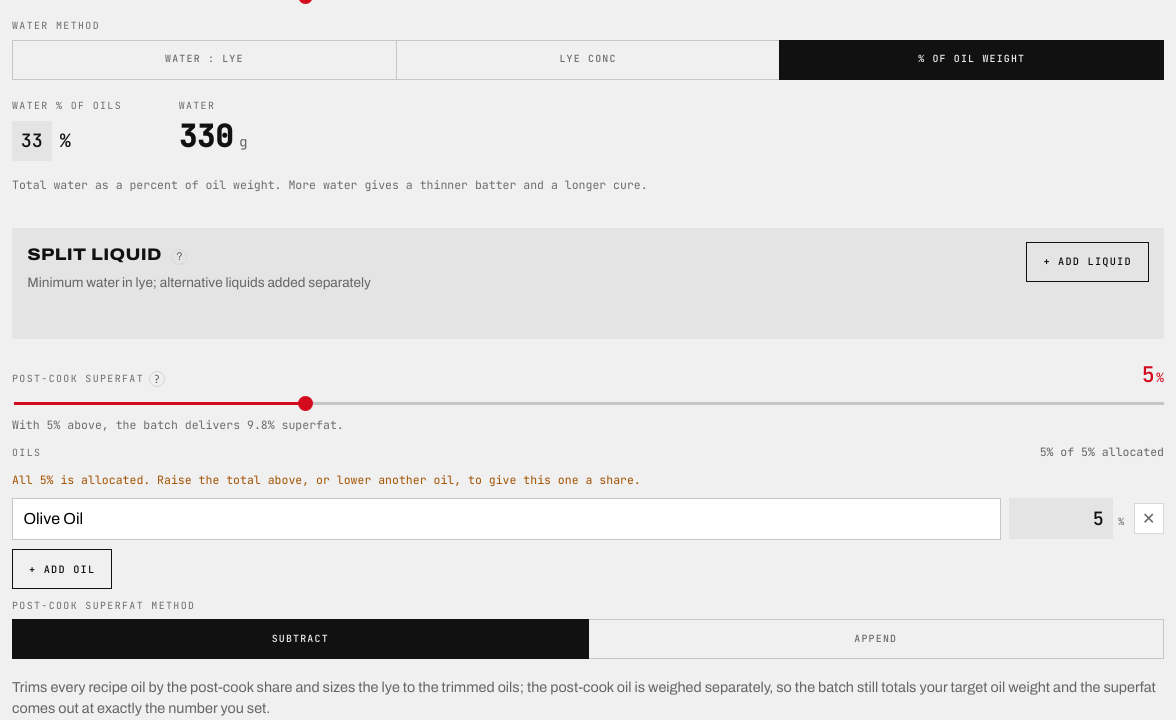
each method shows a plain-language explanation that changes with the selection
(page scrolled)
Expected: the text "Trims every recipe oil" is shown, x1=12 y1=679 x2=1156 y2=716
Click the radio button with aria-label "Append (add oil)".
click(876, 639)  # box x1=588 y1=619 x2=1164 y2=659
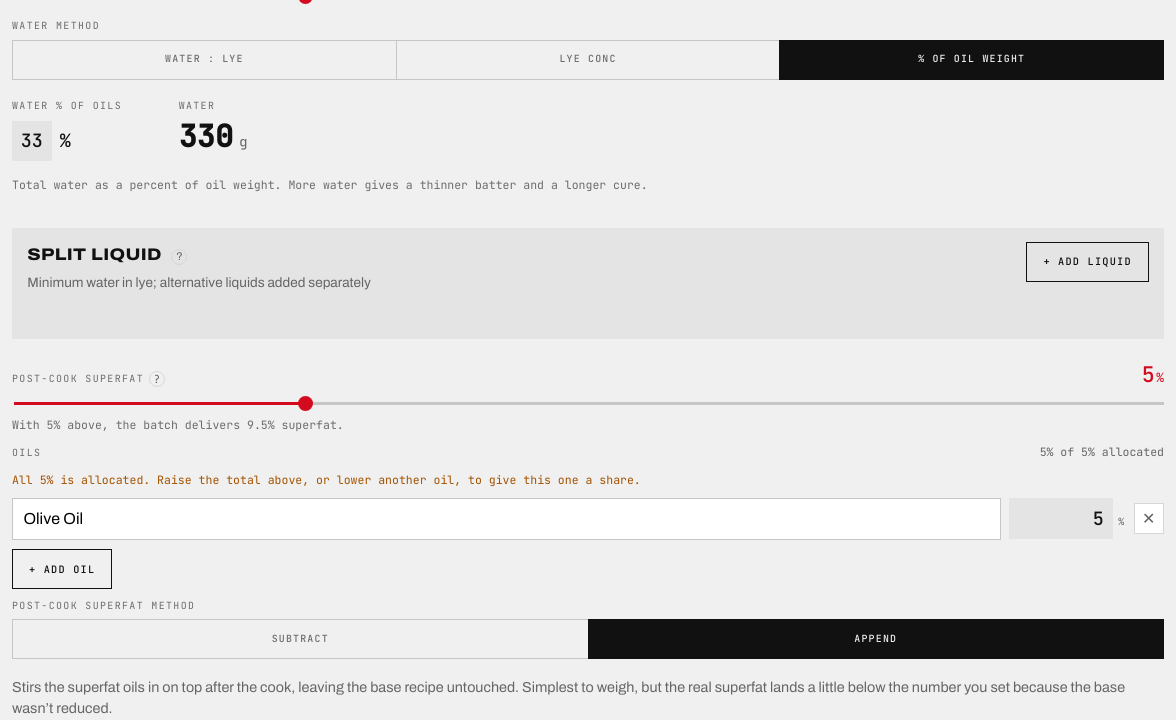
Result: the text "on top after the cook" is shown at x1=12 y1=679 x2=1125 y2=716
